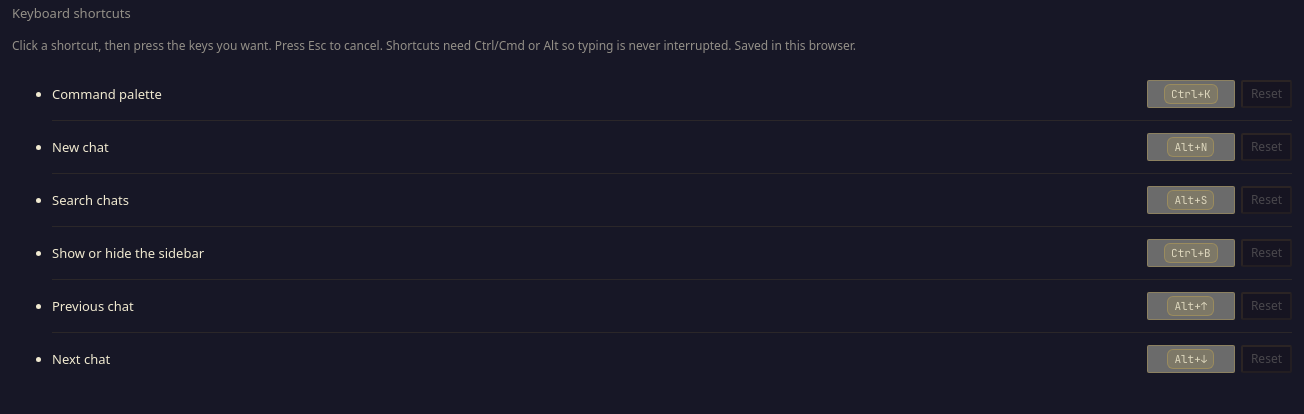
Test case: KeybindingSettings › explains a refusal (clash, reserved key, no modifier) and keeps waiting; Esc cancels
Click the button "Alt+N": coordinates (1191, 147) [1147,133,1235,161]
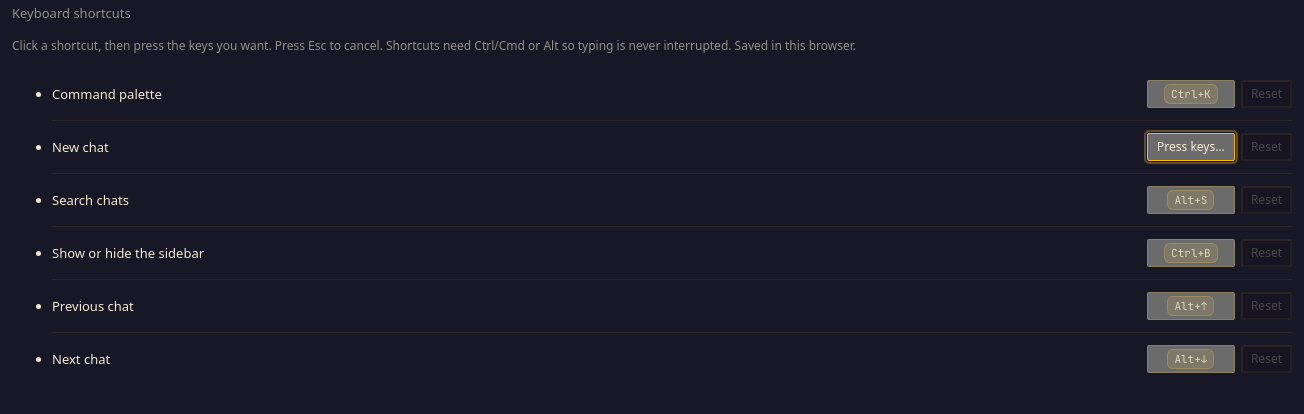
Press KeyK
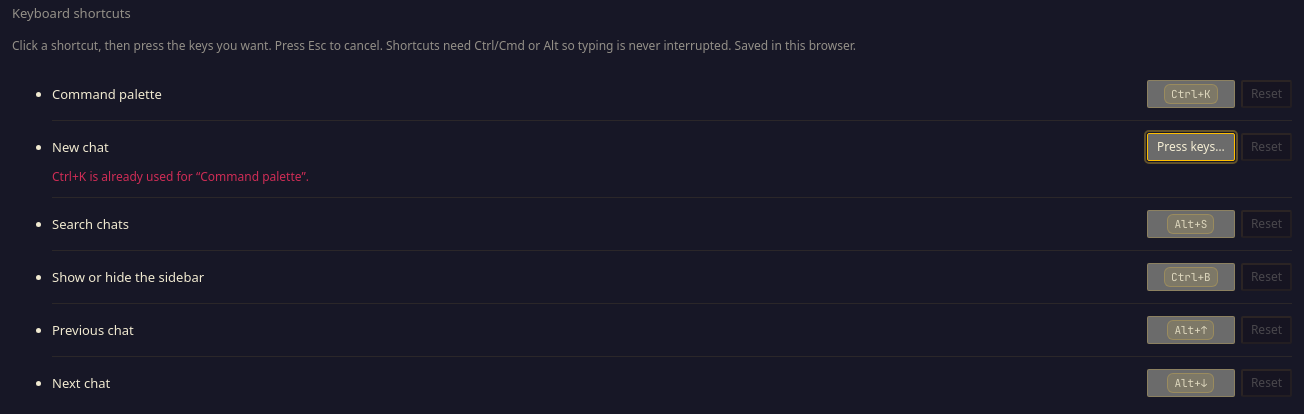
Now the message shows "already used for “Command palette”", box [52,168,309,185]
Press KeyW
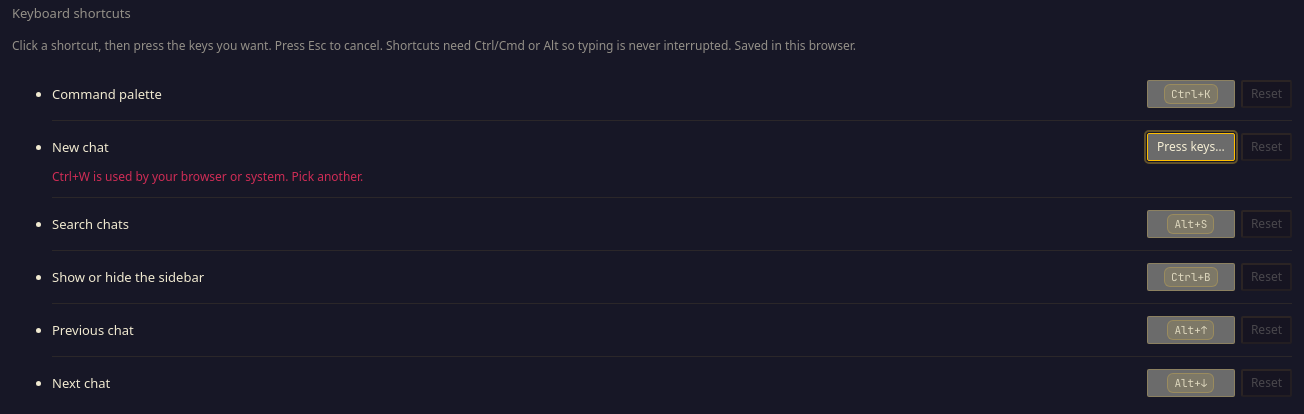
Now the message shows "browser or system", box [52,168,363,185]
Press KeyN
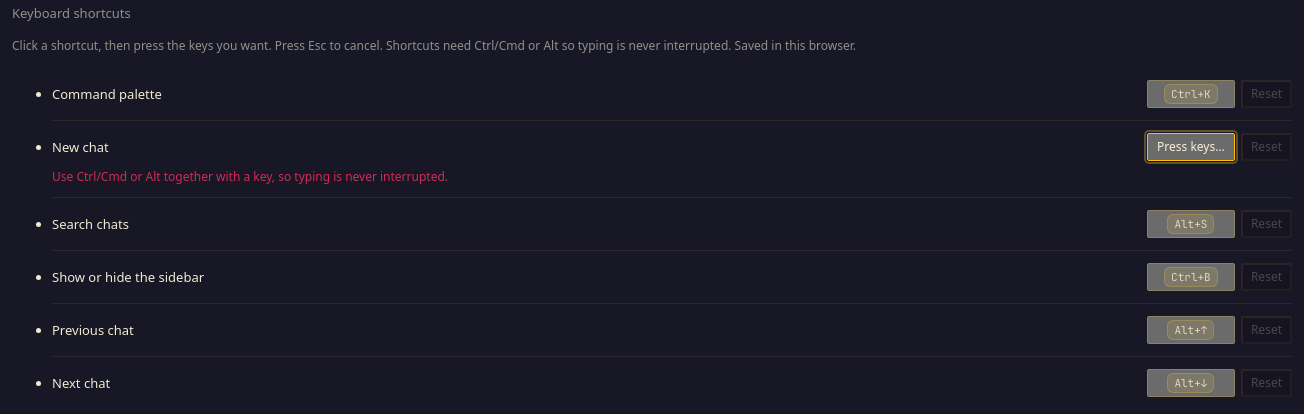
Now the button "Press keys…" is shown, box [1147,133,1235,161]
Now the message shows "Ctrl/Cmd or Alt", box [52,168,448,185]
Press Escape
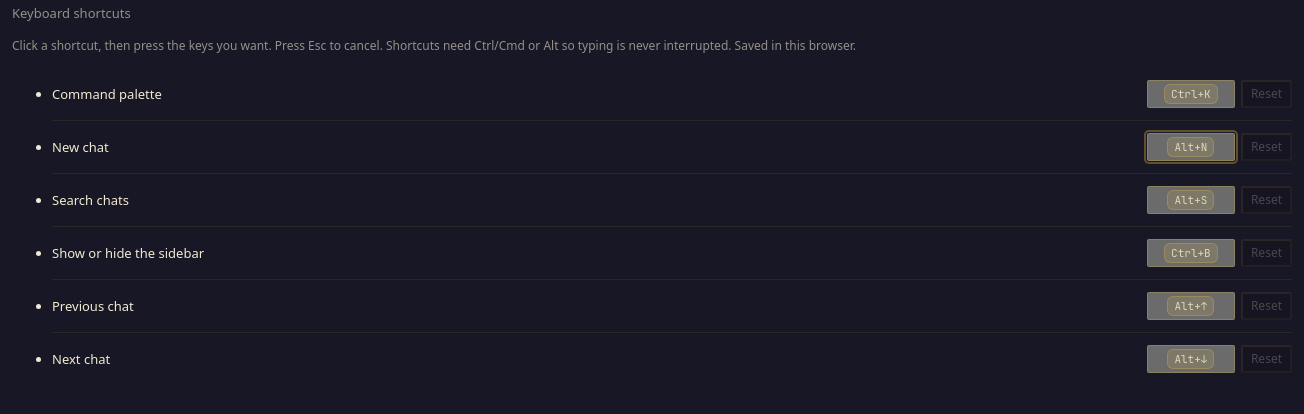
Now the button "Press keys…" is gone
Now the message "Use Ctrl/Cmd or Alt together with a key, so typing is never interrupted." is gone
